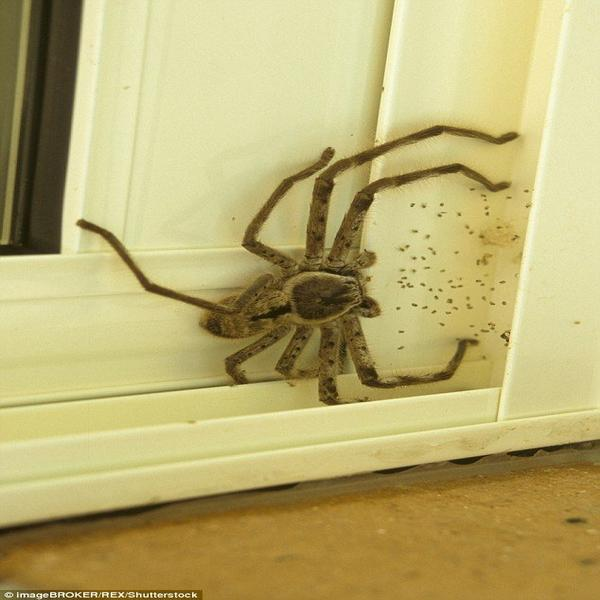Huntsman Spider: (82, 126, 517, 411)
